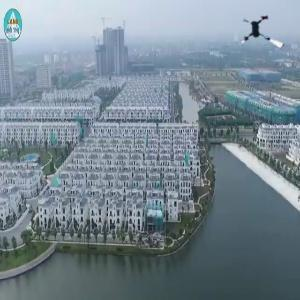drone: (239, 5, 290, 56)
